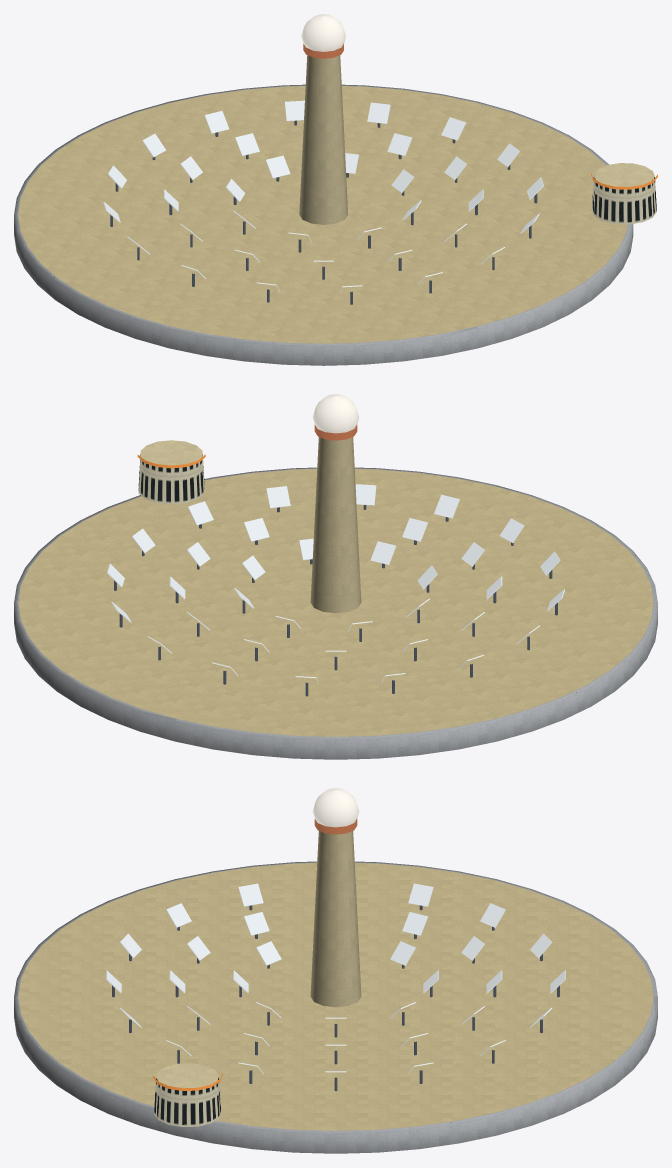
Rendered from mercury_solar_outpost.glb.
The picture shows the model from 3 angles, top to bottom: view 1: azimuth 30°, elevation 25°; view 2: azimuth 150°, elevation 25°; view 3: azimuth 270°, elevation 25°; orthographic projection. The views are drawn at different scales.
Parts seen in each view (by area): view 1: mercury_solar_outpost_LOD0; view 2: mercury_solar_outpost_LOD0; view 3: mercury_solar_outpost_LOD0.
Boxes of the visible parts, x1,y1,x2,y2 form: mercury_solar_outpost_LOD0: [14, 14, 657, 365]; mercury_solar_outpost_LOD0: [14, 394, 657, 759]; mercury_solar_outpost_LOD0: [14, 788, 657, 1153].
Size of what is drawn, in the model's own units: 60.8 by 23.7 by 60.8.
3 materials, 3 textured.
